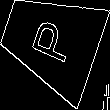P_W: (25, 15, 76, 67)
